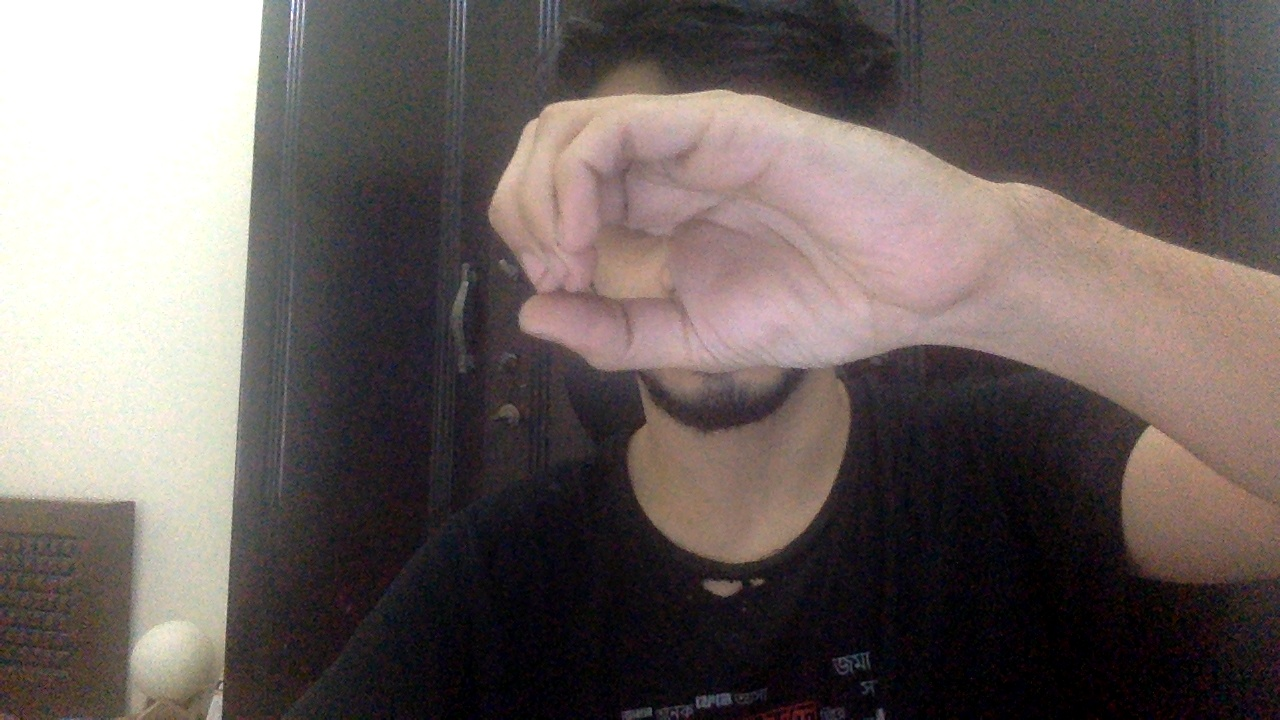zero: (487, 87, 1001, 370)
